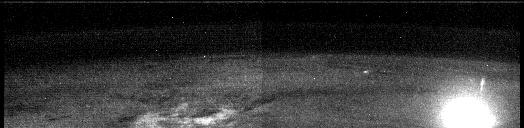positive: (475, 73, 487, 96)
